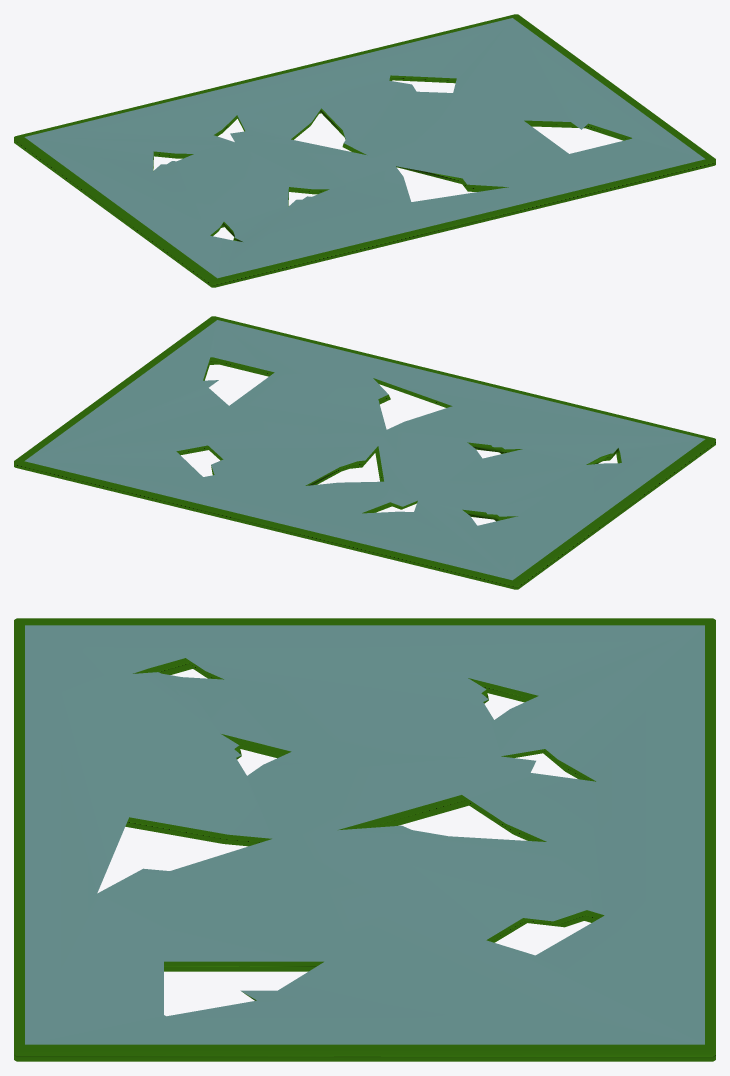
File: dywan3.fbx
3 views of the same model, one above another, from view 1: azimuth 30°, elevation 25°; view 2: azimuth 150°, elevation 25°; view 3: azimuth 270°, elevation 25° (orthographic). The views are drawn at different scales.
Parts seen in each view (by area): view 1: Cube; view 2: Cube; view 3: Cube.
Part boxes in pixels (x1,y1,x2,y2): Cube: (14,14,715,287); Cube: (14,316,715,589); Cube: (14,618,715,1061).
Size of the model in its own units: 316 by 3.42 by 217.
